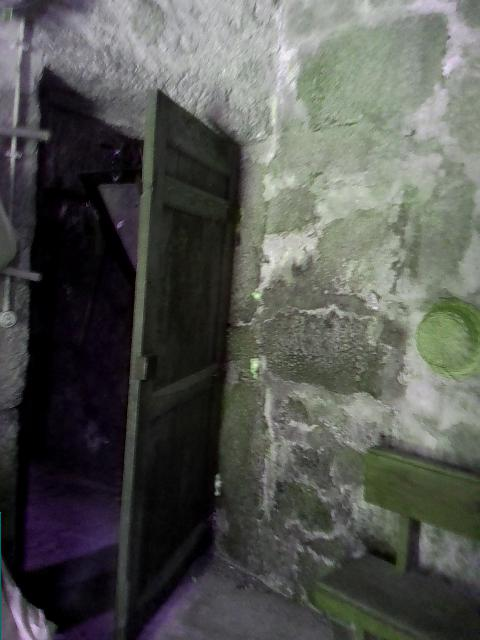semi_door: (17, 62, 245, 639)
